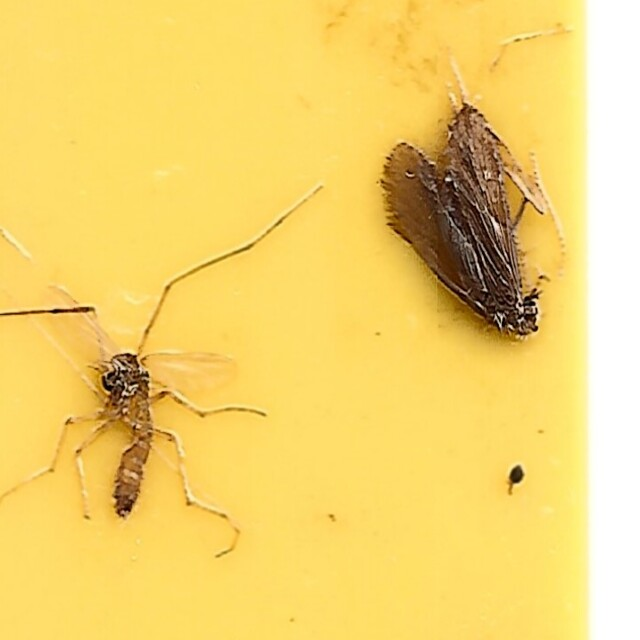Nematocera: (89, 343, 247, 528)
Trichoptera: (374, 112, 551, 335)
